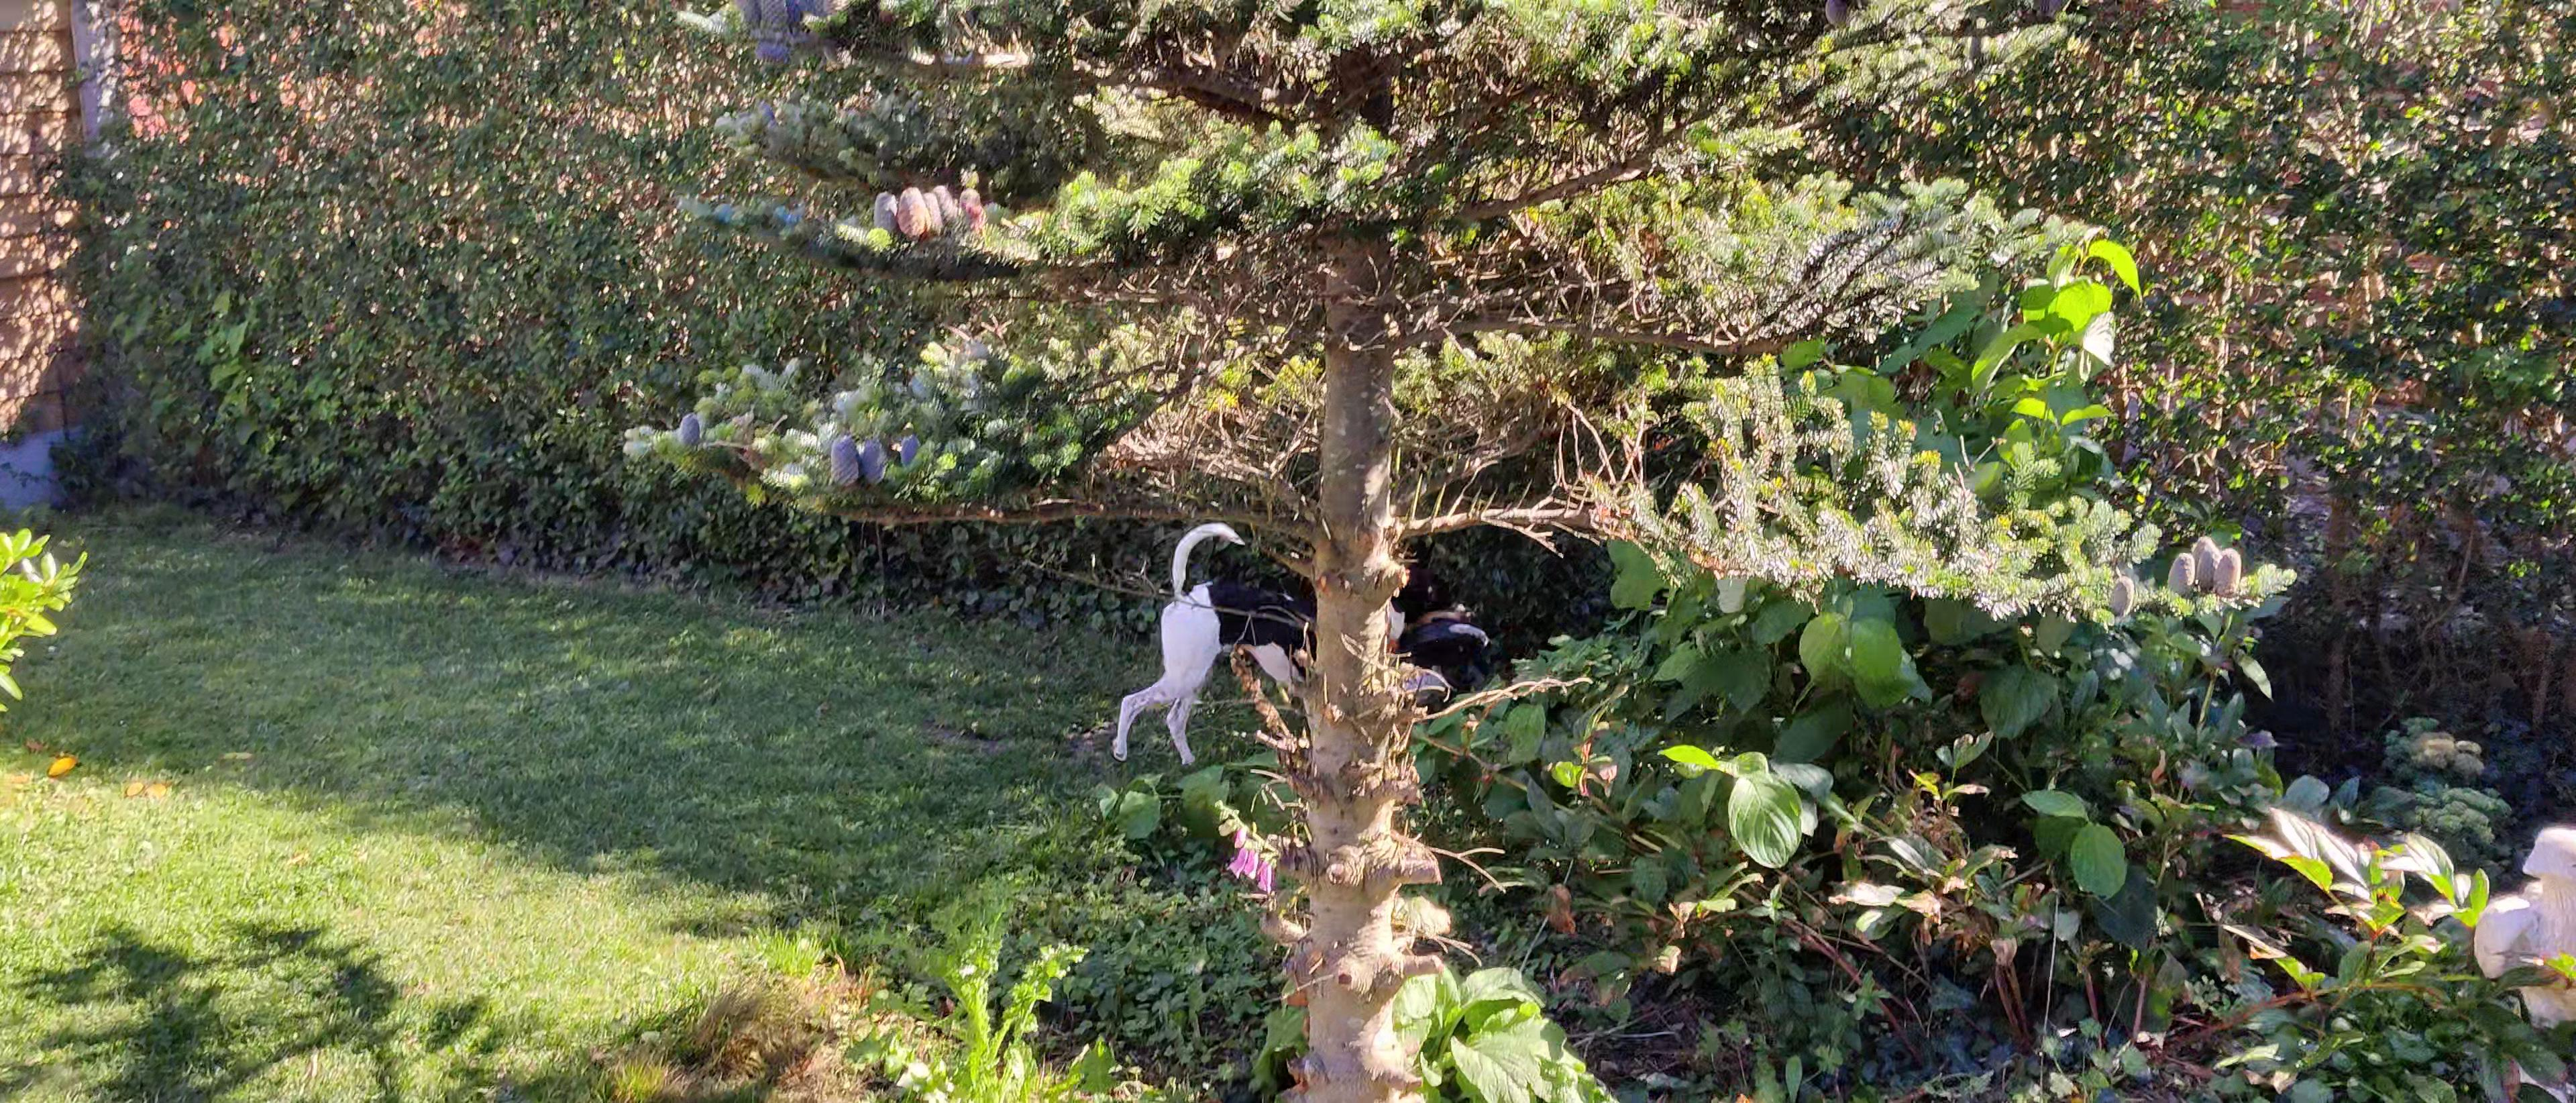Dog: (1106, 521, 1482, 771)
